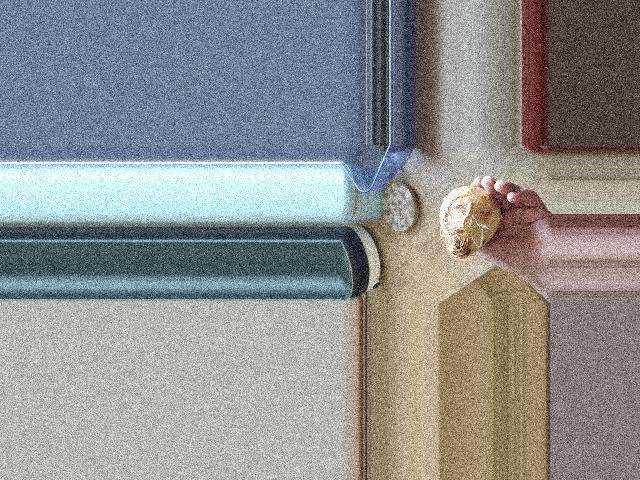onion: (432, 184, 501, 253)
